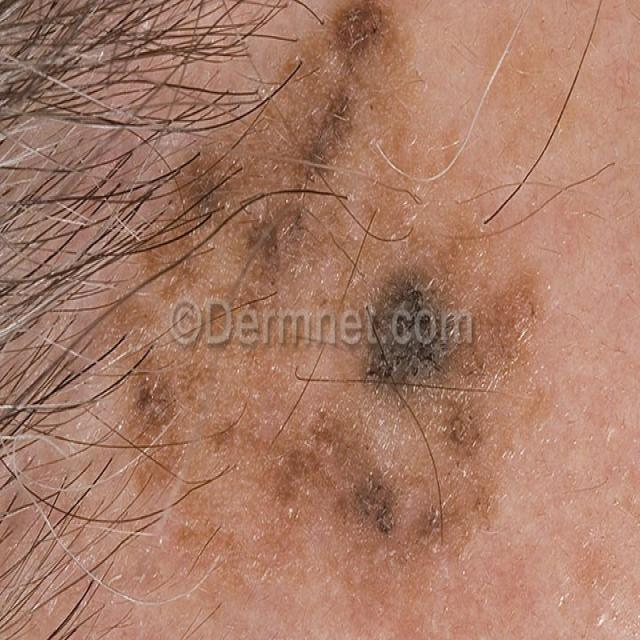Eczema: (142, 2, 524, 546)
